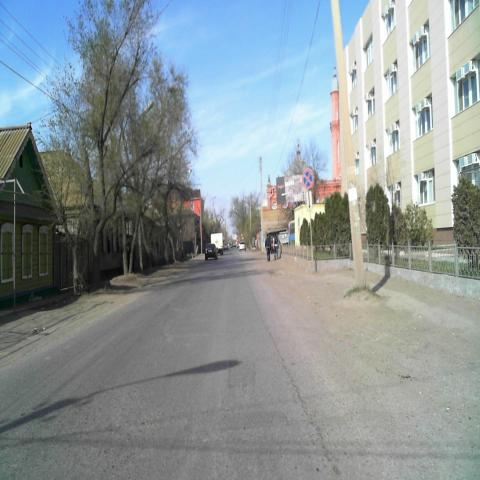8_2_3: (307, 190, 312, 210)
